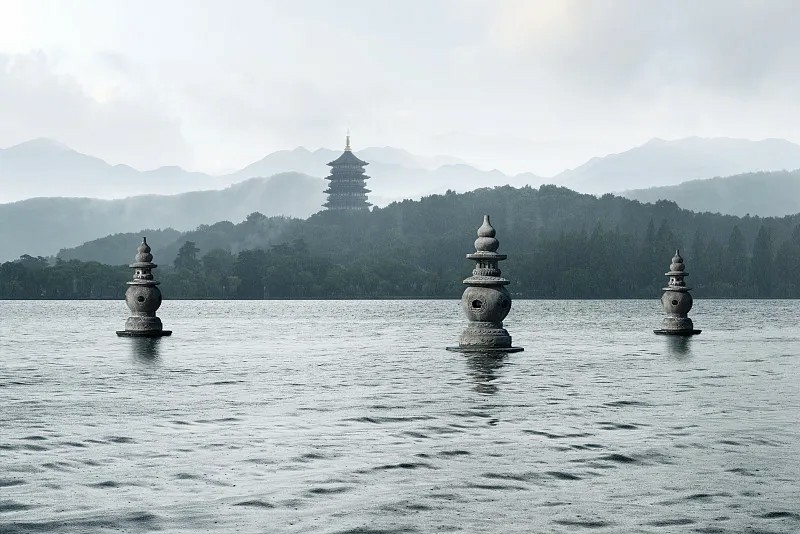Leifeng: (319, 129, 375, 213)
